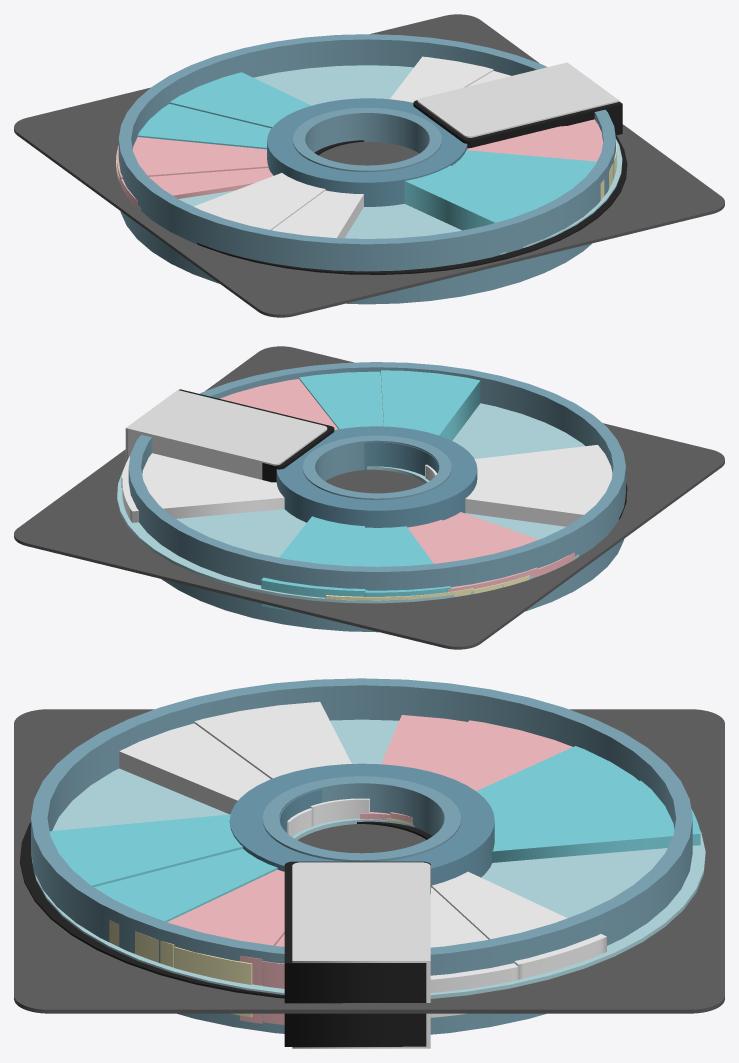
Rendered from emoji_u1f4bd.glb.
3 renders of one model, top to bottom at view 1: azimuth 30°, elevation 25°; view 2: azimuth 150°, elevation 25°; view 3: azimuth 270°, elevation 25°, orthographic. The views are drawn at different scales.
Visible parts, largest first — view 1: emoji_u1f4bd; view 2: emoji_u1f4bd; view 3: emoji_u1f4bd.
Part boxes in pixels (x1,y1,x2,y2): emoji_u1f4bd: (14, 14, 724, 317); emoji_u1f4bd: (14, 346, 724, 649); emoji_u1f4bd: (14, 678, 724, 1048).
Size of the model in its own units: 0.0339 by 0.0046 by 0.0339.
